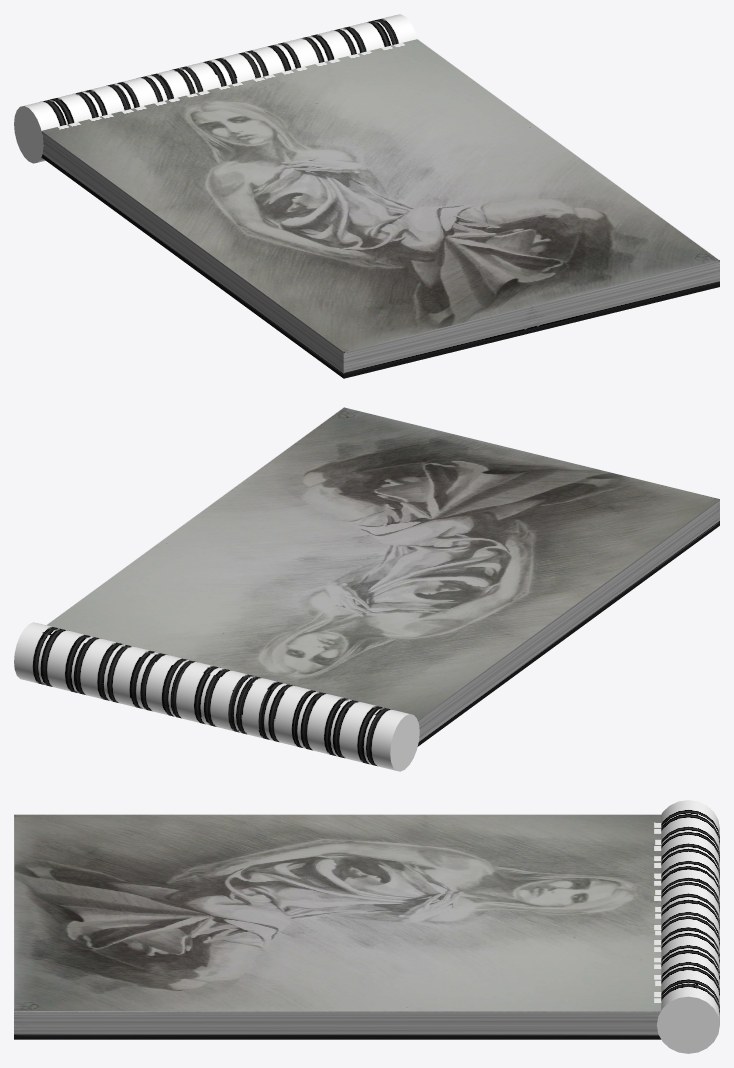
The model's file is BlockNotes.fbx.
3 views of the same model, one above another, from view 1: azimuth 30°, elevation 25°; view 2: azimuth 150°, elevation 25°; view 3: azimuth 270°, elevation 25° (orthographic). The views are drawn at different scales.
Parts seen in each view (by area): view 1: BlockNotes1, Rings1; view 2: BlockNotes1, Rings1; view 3: BlockNotes1, Rings1.
Part boxes in pixels (x1,y1,x2,y2): BlockNotes1: (41, 39, 719, 378); Rings1: (14, 14, 417, 163); BlockNotes1: (46, 407, 719, 746); Rings1: (14, 622, 419, 771); BlockNotes1: (14, 814, 661, 1039); Rings1: (656, 800, 719, 1053).
Size of the model in its own units: 2.91 by 0.3961 by 4.42.
2 materials, 2 textured.
